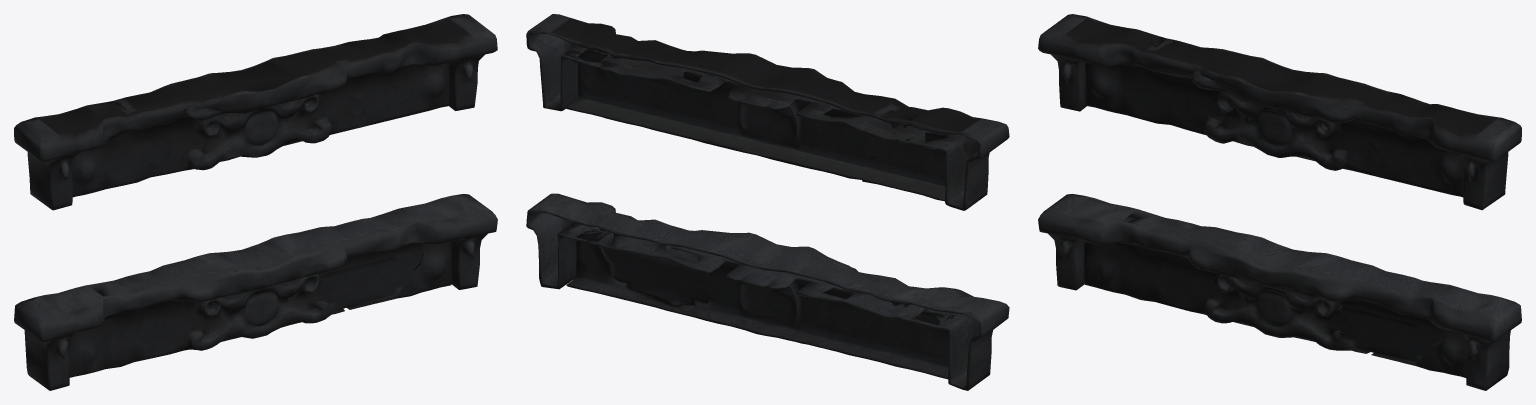
File: kit-trim.glb
3 views of the same model, side by side, from view 1: azimuth 30°, elevation 25°; view 2: azimuth 150°, elevation 25°; view 3: azimuth 330°, elevation 25° (orthographic).
Size of the model in its own units: 1.91 by 1.03 by 0.2309.
1 material, 1 textured.
